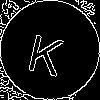K: (25, 25, 68, 77)
